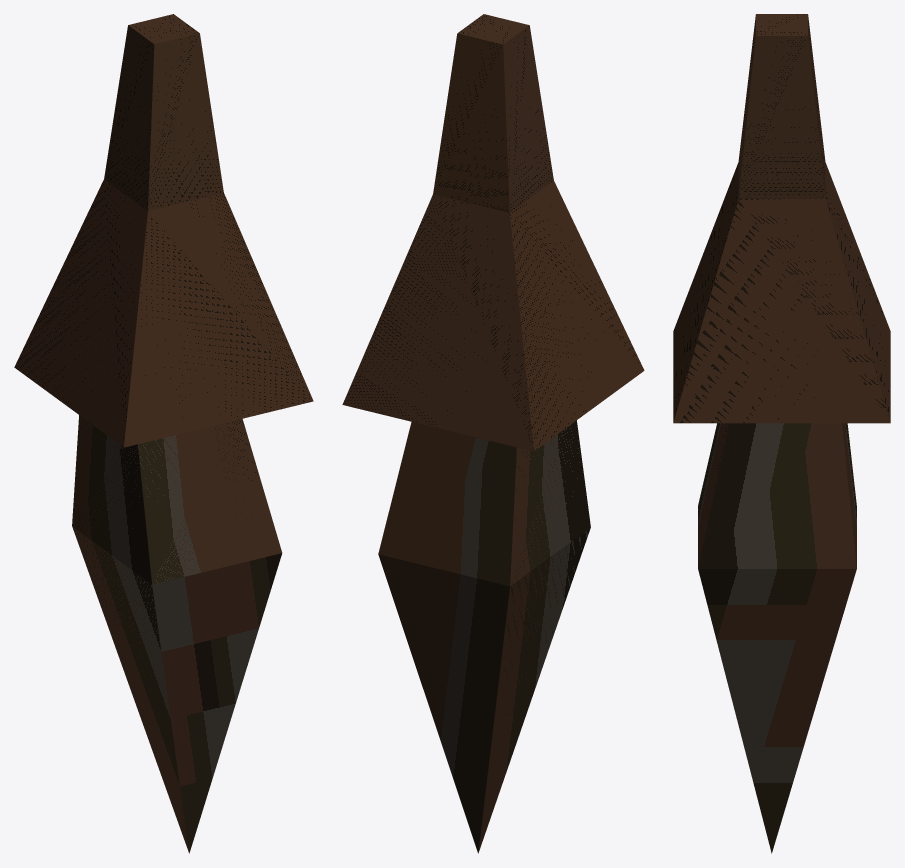
Rendered from TORCH.obj.
3 views of the same model, side by side, from view 1: azimuth 30°, elevation 25°; view 2: azimuth 150°, elevation 25°; view 3: azimuth 270°, elevation 25° (orthographic).
Parts seen in each view (by area): view 1: Cube, Cube.001; view 2: Cube, Cube.001; view 3: Cube, Cube.001.
Boxes of the visible parts, x1,y1,x2,y2 form: Cube: (14, 14, 313, 447); Cube.001: (72, 415, 282, 853); Cube: (342, 14, 644, 451); Cube.001: (378, 420, 590, 853); Cube: (673, 14, 890, 423); Cube.001: (698, 423, 856, 853).
Bounding box in the file's own units: 1.02 × 4.22 × 1.02.
